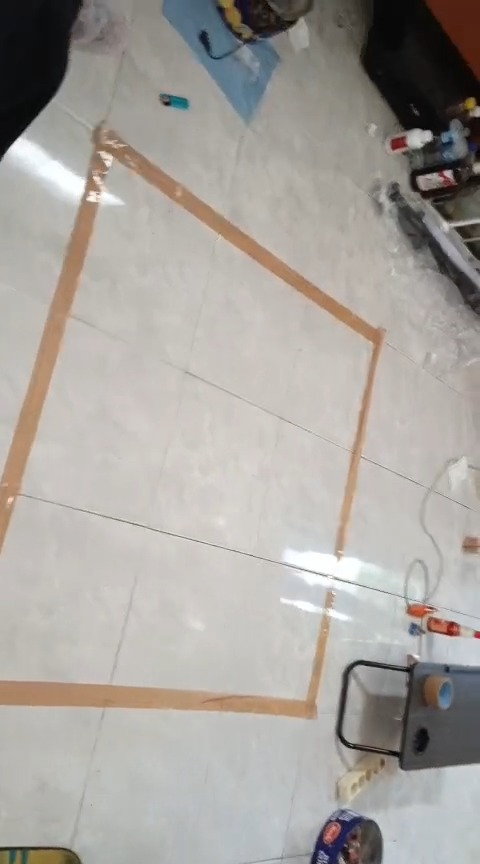floor marking: (0, 127, 383, 562), (0, 586, 334, 718)
